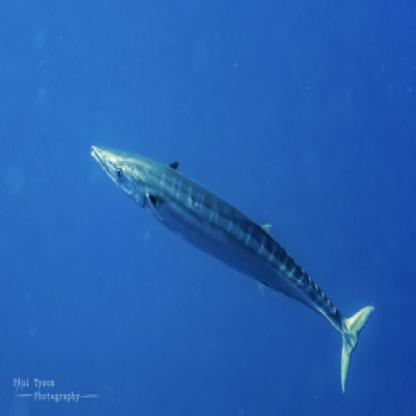tuna: (89, 142, 380, 400)
